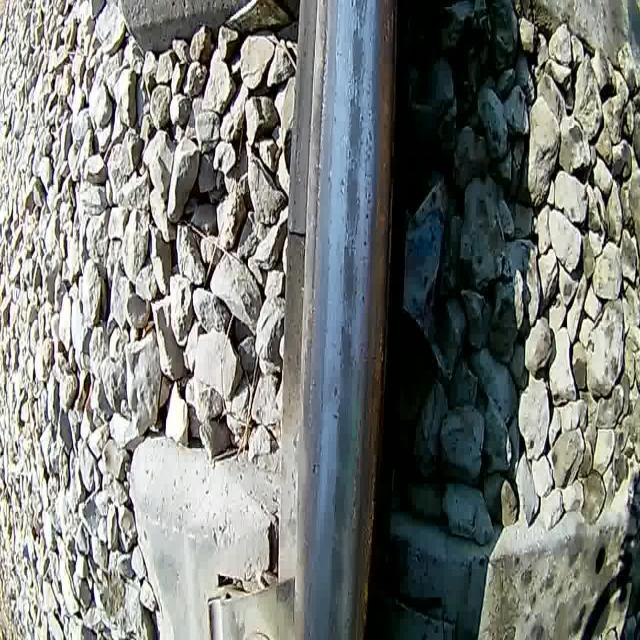Cracks: (342, 206, 360, 253), (348, 68, 367, 110), (349, 470, 359, 528), (346, 134, 358, 181), (330, 486, 338, 528)
Squats: (335, 246, 365, 324), (330, 386, 357, 472), (342, 158, 364, 242), (334, 323, 362, 387), (346, 20, 368, 94), (327, 475, 351, 540), (345, 91, 365, 165), (327, 540, 347, 600), (322, 599, 346, 640), (349, 0, 371, 30)
